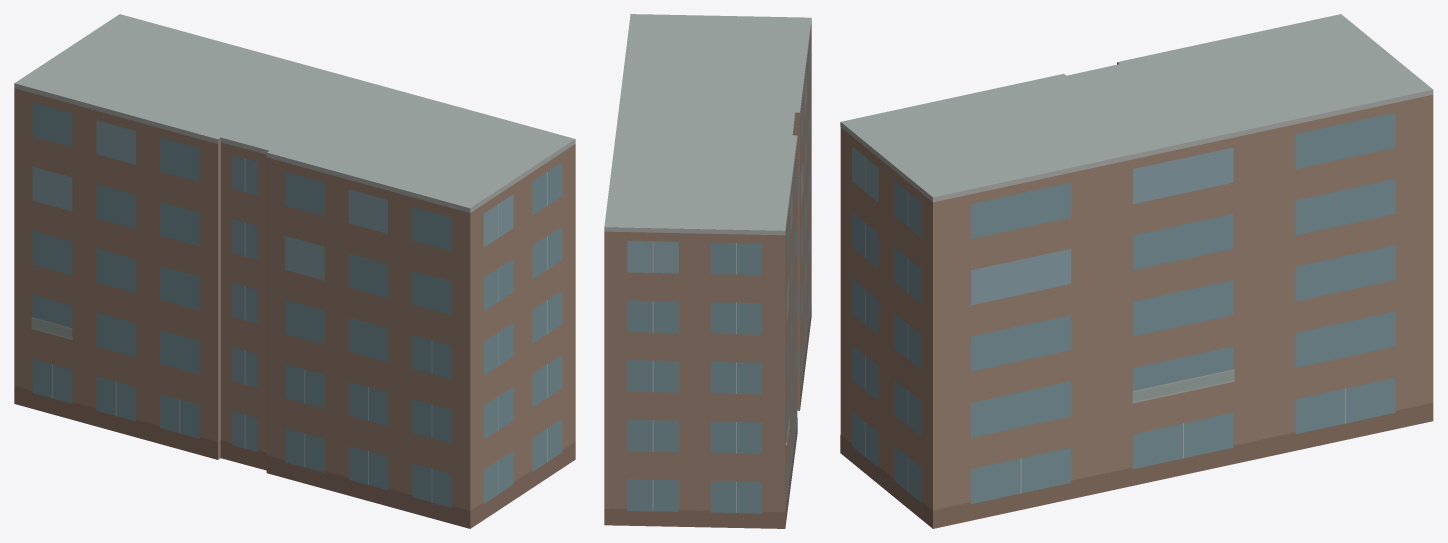
File: survey-upis-32863884.glb
3 renders of one model, left to right at view 1: azimuth 30°, elevation 25°; view 2: azimuth 150°, elevation 25°; view 3: azimuth 270°, elevation 25°, orthographic. The views are drawn at different scales.
Visible parts, largest first — view 1: survey-upis-32863884.tmp; view 2: survey-upis-32863884.tmp; view 3: survey-upis-32863884.tmp.
Boxes of the visible parts, x1,y1,x2,y2 form: survey-upis-32863884.tmp: (14, 14, 575, 528); survey-upis-32863884.tmp: (604, 14, 811, 528); survey-upis-32863884.tmp: (840, 14, 1433, 528).
Bounding box in the file's own units: 19.5 × 16.41 × 26.61.
